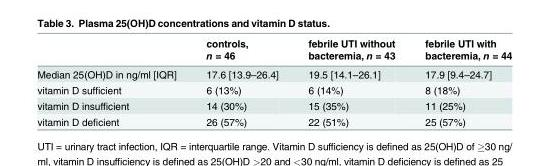table: (36, 36, 511, 127)
table column: (36, 36, 190, 127), (292, 36, 409, 127), (190, 36, 292, 127), (409, 36, 511, 127)
table column header: (36, 36, 511, 64)
table row: (36, 64, 511, 81), (36, 48, 511, 64), (36, 81, 511, 97), (36, 97, 511, 113), (36, 113, 511, 127), (36, 36, 511, 48)
table spanning cell: (292, 36, 409, 64), (190, 36, 292, 64), (409, 36, 511, 64)
